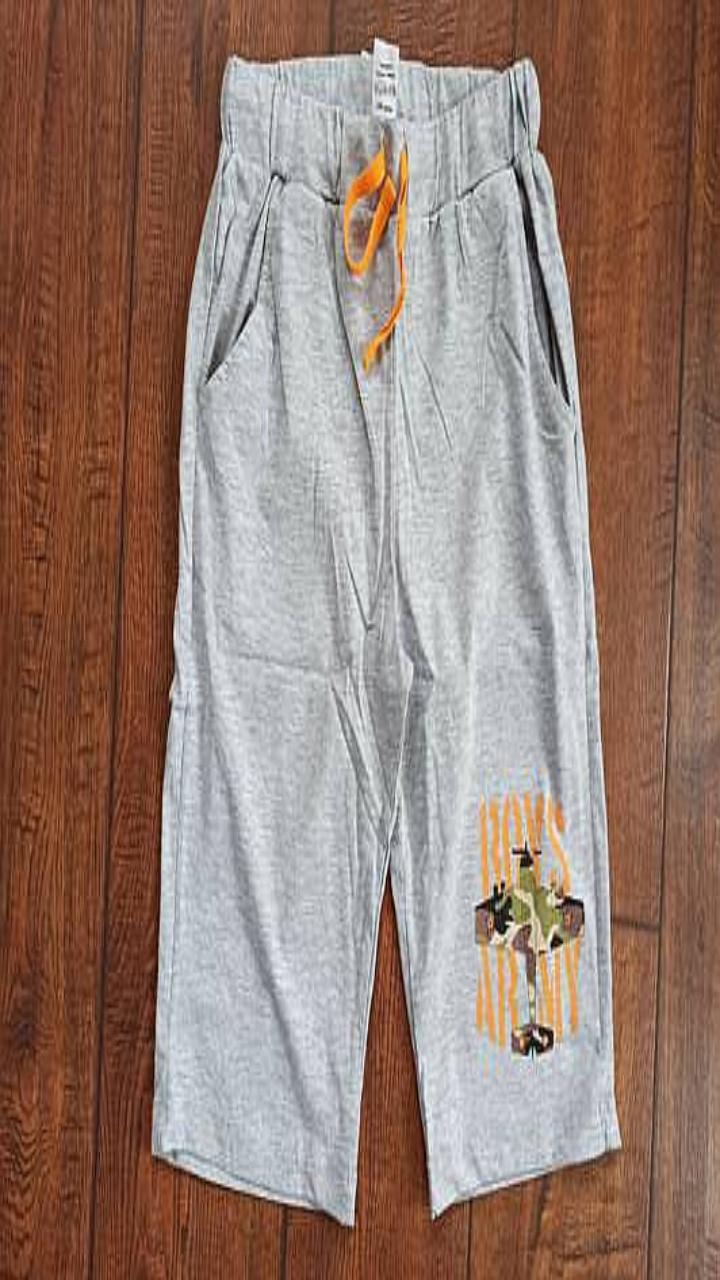Shorts: (152, 53, 619, 1223)
